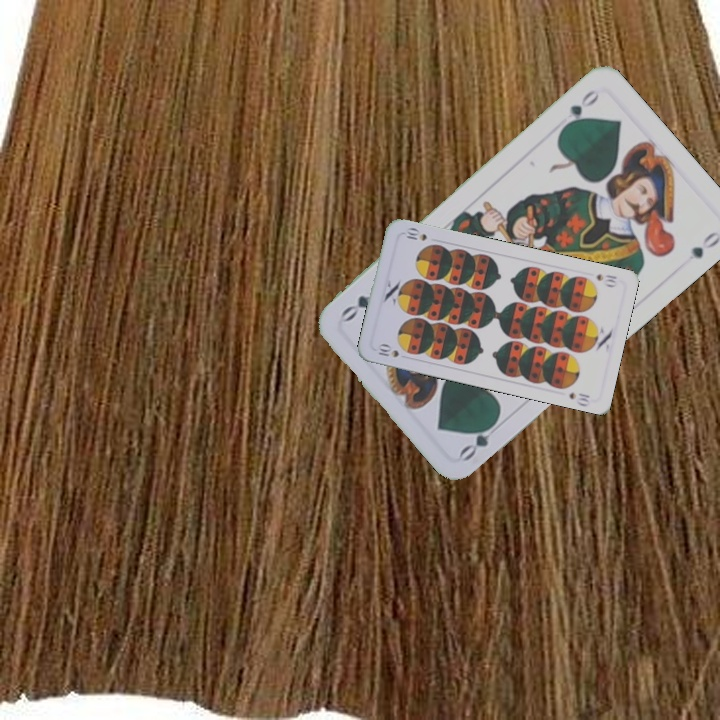GO: (455, 414, 501, 464), (557, 85, 602, 133)
S10: (373, 340, 401, 360), (592, 270, 620, 290)
